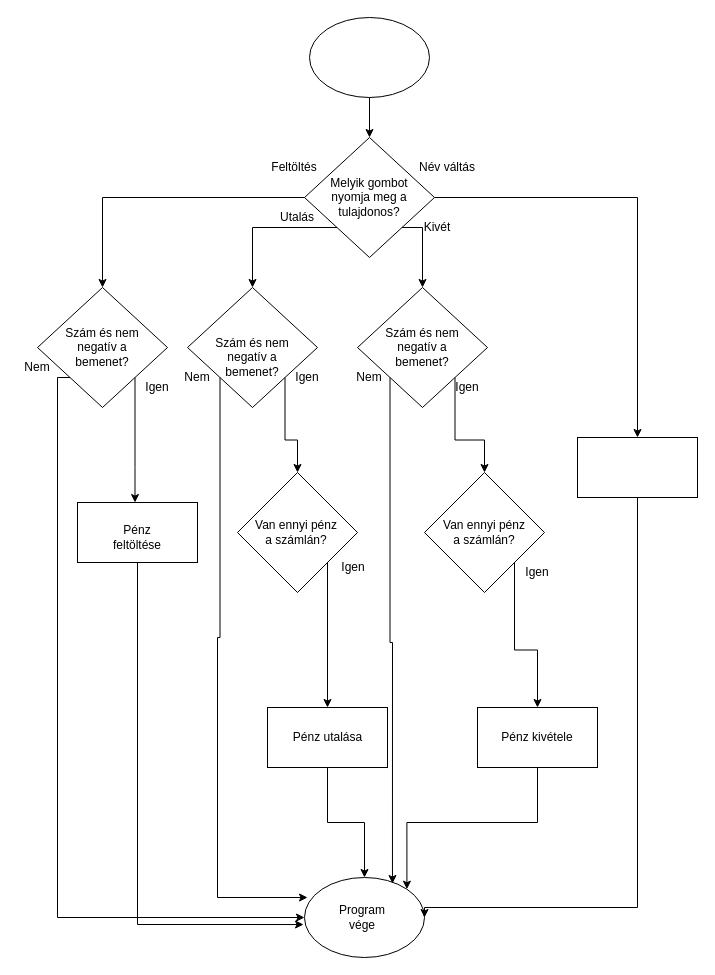
This 715x975 diagram has some shape labels left out. The shapes that lost their labels are listed below. From the top down, each one's centre as x and y in pixels, then its label:
(369,57): Indítás
(637,467): Név változtatás
